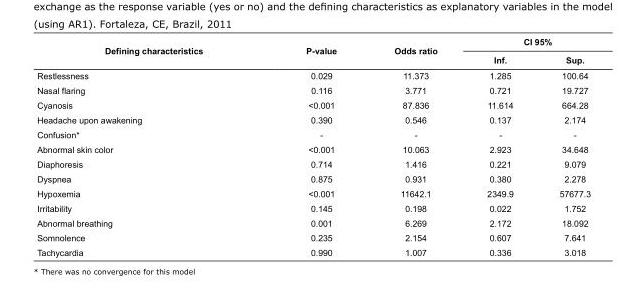table: (36, 36, 589, 256)
table column: (36, 36, 253, 256), (253, 36, 364, 256), (364, 36, 461, 256), (461, 36, 535, 256), (535, 36, 589, 256)
table column header: (36, 36, 589, 67)
table row: (36, 50, 589, 67), (36, 67, 589, 82), (36, 82, 589, 97), (36, 97, 589, 112), (36, 126, 589, 141), (36, 141, 589, 156), (36, 156, 589, 171), (36, 185, 589, 200), (36, 200, 589, 215), (36, 229, 589, 244), (36, 36, 589, 50), (36, 112, 589, 126), (36, 171, 589, 185), (36, 215, 589, 229), (36, 244, 589, 256)
table spanning cell: (36, 36, 253, 67), (253, 36, 364, 67), (364, 36, 461, 67), (461, 36, 589, 50)
